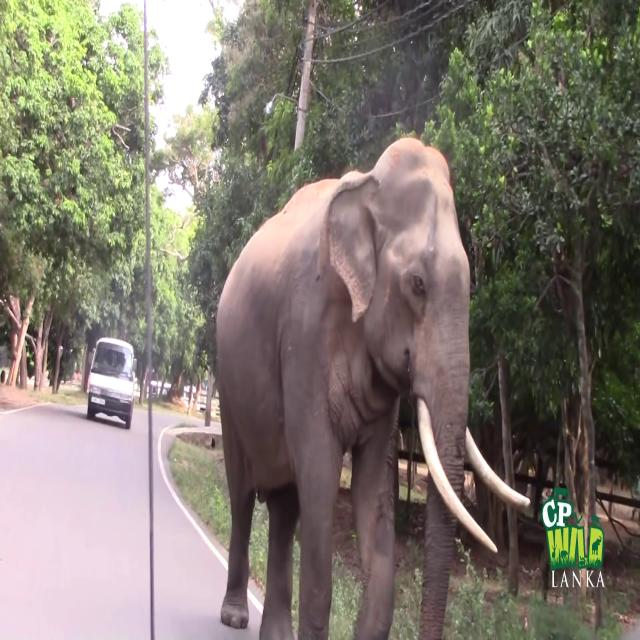Elephant: (215, 135, 531, 639)
